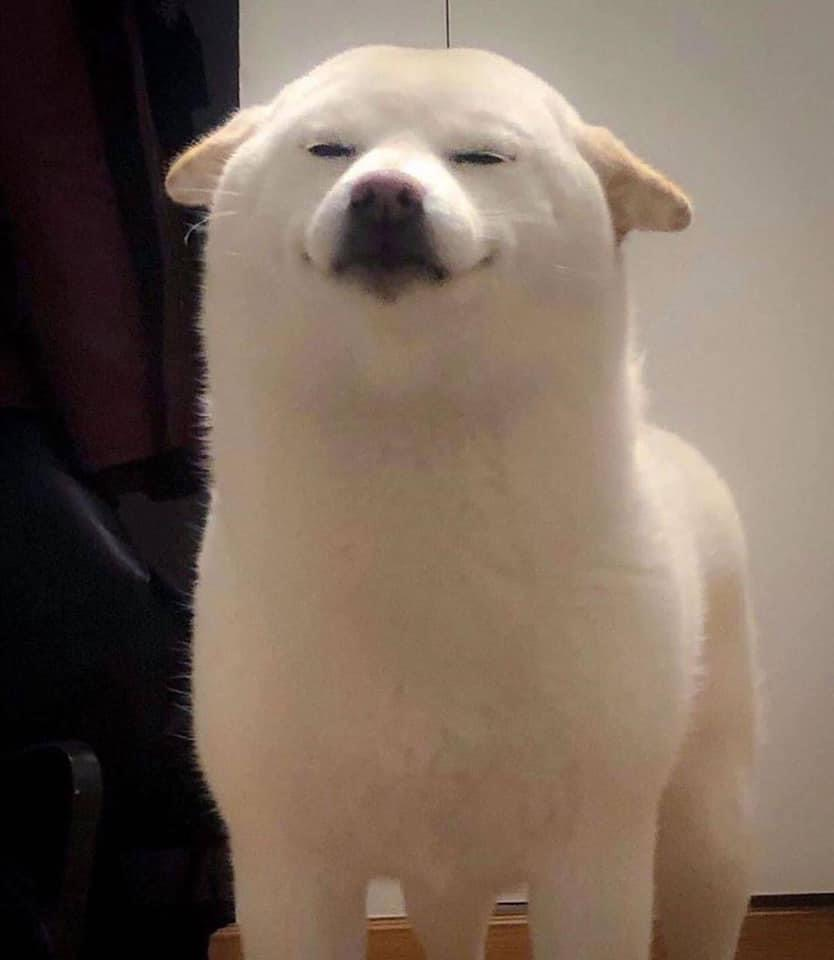dog: (164, 42, 758, 960)
